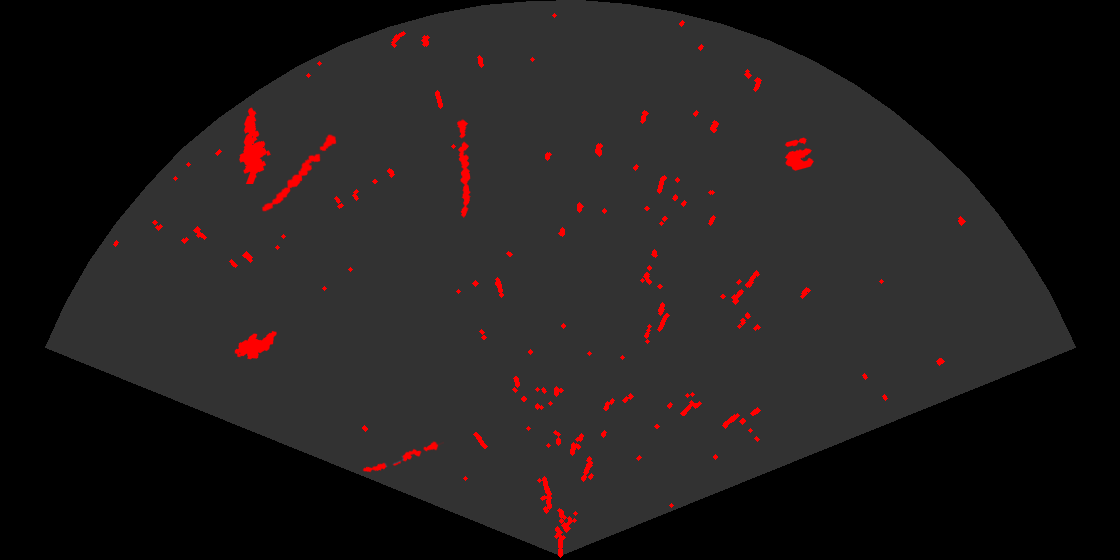AUV: (233, 329, 278, 361)
ball: (783, 136, 815, 172)
chain: (260, 133, 338, 213), (361, 440, 444, 474), (456, 117, 472, 218)
frogman: (238, 106, 272, 184)
